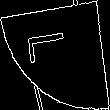L_E: (30, 36, 80, 74)
